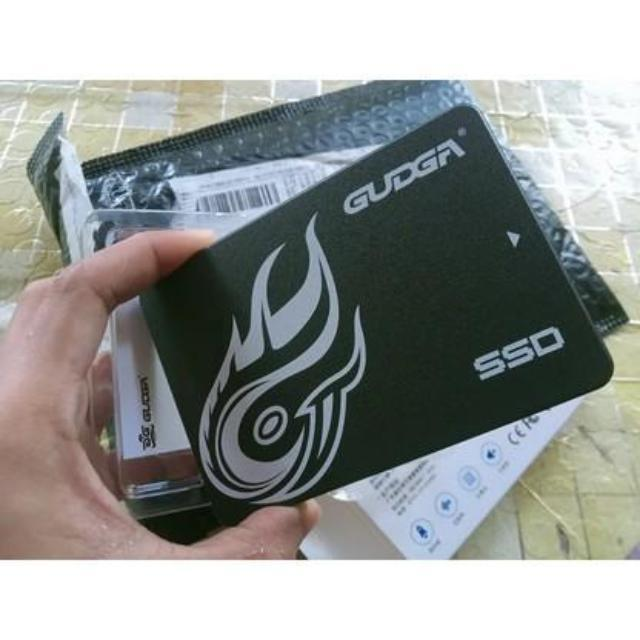DISK: (134, 103, 626, 517)
